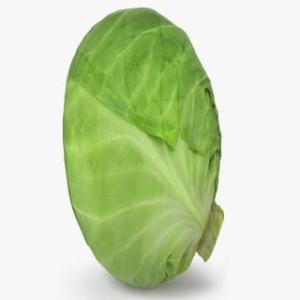cabbage: (61, 5, 225, 288)
